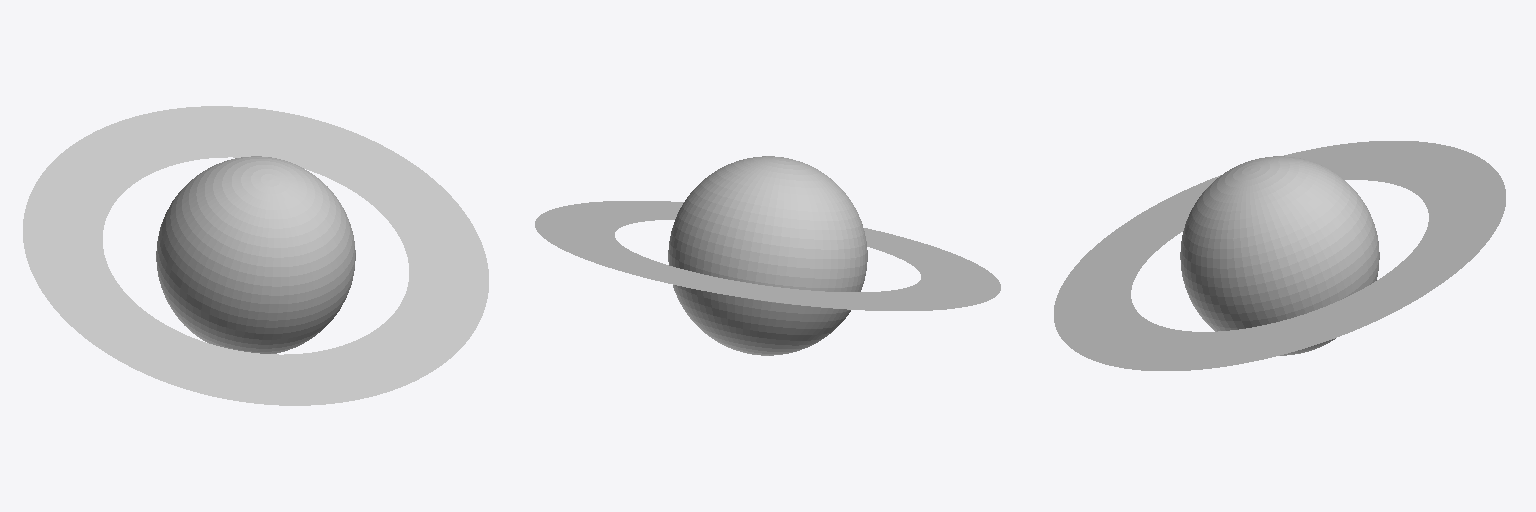
Rendered from saturn.obj.
The picture shows the model from 3 angles: view 1: azimuth 30°, elevation 25°; view 2: azimuth 150°, elevation 25°; view 3: azimuth 270°, elevation 25°; orthographic projection.
Visible parts, largest first — view 1: Ring_Circle.001, Saturn_Sphere; view 2: Saturn_Sphere, Ring_Circle.001; view 3: Ring_Circle.001, Saturn_Sphere.
Part boxes in pixels (bbox=[...]): Ring_Circle.001: bbox=[23, 106, 488, 405]; Saturn_Sphere: bbox=[156, 156, 355, 353]; Saturn_Sphere: bbox=[668, 156, 867, 355]; Ring_Circle.001: bbox=[535, 201, 1000, 310]; Ring_Circle.001: bbox=[1054, 141, 1505, 370]; Saturn_Sphere: bbox=[1180, 156, 1379, 355].
Size of the model in its own units: 4.72 by 2 by 4.54.